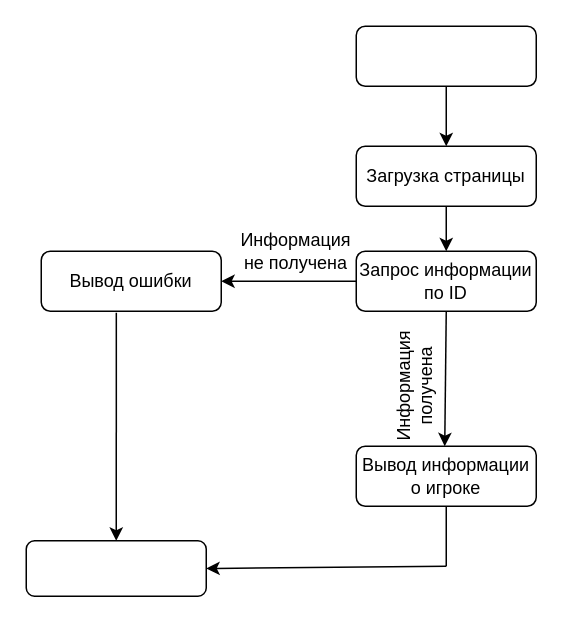
This 563x623 diagram has some shape labels left out. Each missing label, with the centre of its shape:
Конец: (115,567)
Начало: (445,55)
